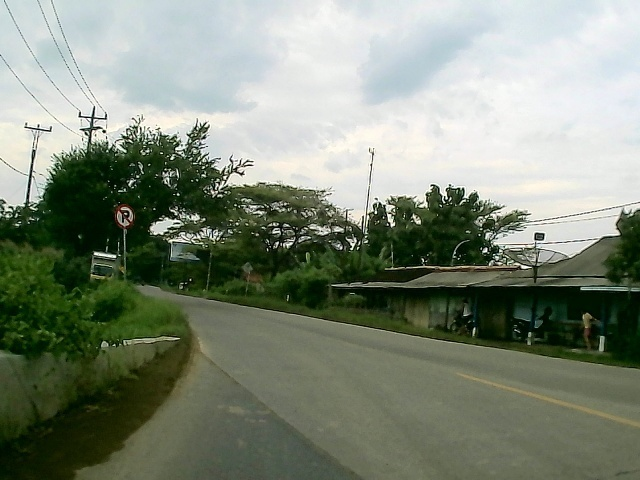Dilarang parkir: (111, 204, 138, 229)
